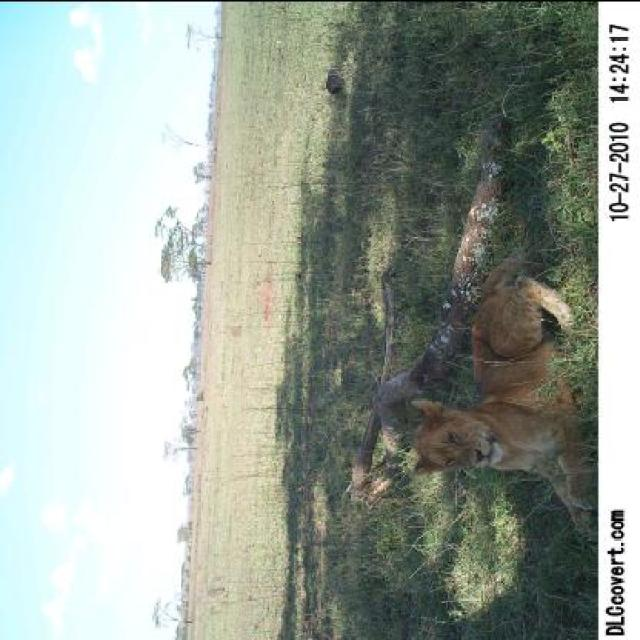Lion: (395, 249, 608, 543)
